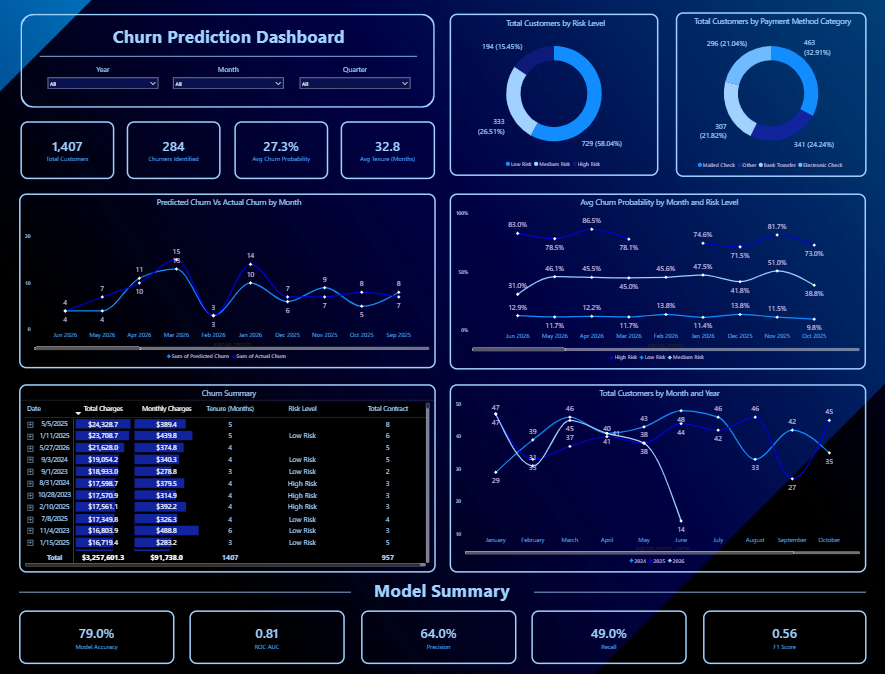

The page's visual inventory and layout, read from the dashboard file:
{"tool":"powerbi","page":{"name":"Churn Prediction","canvas":[2165,1650],"ordinal":0},"visuals":[{"type":"donutChart","title":"Total Customers by Risk Level","fields":{"Category":["churn_predictions.Risk_Level"],"Y":["Measures_.total_customers"]},"box":[1099.9,32,511.1,397.2],"z":0,"group":"g6"},{"type":"shape","box":[46.9,1428.2,812.5,37.5],"z":0,"group":"g2"},{"type":"lineChart","title":"Avg Churn Probability by Month and Risk Level","fields":{"Category":["churn_predictions.signup_month"],"Y":["Avg(churn_predictions.Churn_Probability)"],"Series":["churn_predictions.Risk_Level"]},"box":[1100.1,472.2,1019,430.6],"z":1000},{"type":"textbox","box":[875,1409.4,415.6,75],"z":1000,"group":"g2"},{"type":"lineChart","title":"Total Customers by Month and Year","fields":{"Y":["Measures_.total_customers"],"Series":["churn_predictions.signup_year"],"Category":["churn_predictions.signup_month_name"]},"box":[1099.9,938.9,1019.4,461.1],"z":2000,"group":"g7"},{"type":"shape","box":[1306.3,1428.2,812.5,37.5],"z":2000,"group":"g2"},{"type":"cardVisual","fields":{"Data":["Measures_.total_customers"]},"box":[50.4,297.1,230,141.7],"z":3000,"group":"g5"},{"type":"lineChart","title":"Predicted Churn Vs Actual Churn by Month","fields":{"Category":["churn_predictions.signup_month"],"Y":["Sum(churn_predictions.Predicted_Churn)","Sum(churn_predictions.Actual_Churn)"]},"box":[47.7,473.6,1019.4,427.8],"z":4000},{"type":"cardVisual","fields":{"Data":["Measures_.churners_identified"]},"box":[311.5,297.1,230,141.7],"z":5000,"group":"g5"},{"type":"pivotTable","title":"Churn Summary","fields":{"Rows":["churn_predictions.signup_date","churn_predictions.signup_year"],"Values":["Sum(churn_predictions.TotalCharges)","Sum(churn_predictions.MonthlyCharges)","CountNonNull(churn_predictions.tenure)","Min(churn_predictions.Risk_Level)","Sum(churn_predictions.Contract)"]},"box":[47.7,938.9,1019.4,461.1],"z":6000,"group":"g7"},{"type":"cardVisual","fields":{"Data":["Avg(churn_predictions.Churn_Probability)"]},"box":[572.5,297.1,230,141.7],"z":7000,"group":"g5"},{"type":"donutChart","title":"Total Customers by Payment Method Category","fields":{"Y":["Measures_.total_customers"],"Category":["churn_predictions.PaymentMethod_Category"]},"box":[1652.7,29.2,466.7,402.8],"z":8000,"group":"g6"},{"type":"cardVisual","fields":{"Data":["Avg(churn_predictions.tenure)"]},"box":[833.6,297,230.9,141.8],"z":9000,"group":"g5"},{"type":"shape","box":[50.5,32.6,1013.9,230.6],"z":10000,"group":"g4"},{"type":"textbox","box":[104.2,53.4,906.4,113.9],"z":11000,"group":"g3"},{"type":"shape","box":[95.5,111.7,923.8,55.6],"z":12000,"group":"g3"},{"type":"group","id":"g1","title":"Group 1","box":[104.2,156.2,906.4,86.1],"z":13000,"group":"g3"},{"type":"slicer","title":"Year","fields":{"Values":["churn_predictions.signup_date.Variation.Date Hierarchy.Year"]},"box":[104.2,156.2,290.5,86.1],"z":13000,"group":"g1"},{"type":"slicer","title":"Month","fields":{"Values":["churn_predictions.signup_date.Variation.Date Hierarchy.Month"]},"box":[412.1,156.2,290.5,86.1],"z":14000,"group":"g1"},{"type":"cardVisual","fields":{"Data":["Measures_.Model Accuracy"]},"box":[46.9,1493.8,380,131.2],"z":14000,"group":"g8"},{"type":"slicer","title":"Quarter","fields":{"Values":["churn_predictions.signup_date.Variation.Date Hierarchy.Quarter"]},"box":[720.1,156.2,290.5,86.1],"z":15000,"group":"g1"},{"type":"cardVisual","fields":{"Data":["Measures_.ROC_AUC"]},"box":[464.9,1493.8,380,131.2],"z":15000,"group":"g8"},{"type":"cardVisual","fields":{"Data":["Measures_.Precision"]},"box":[882.8,1493.8,380,131.2],"z":16000,"group":"g8"},{"type":"cardVisual","fields":{"Data":["Measures_.Recall"]},"box":[1300.8,1493.8,380,131.2],"z":17000,"group":"g8"},{"type":"cardVisual","fields":{"Data":["Measures_.F1 Score"]},"box":[1718.8,1493.8,400,131.2],"z":18000,"group":"g8"},{"type":"group","id":"g2","title":"Group 2","box":[46.9,1409.4,2071.9,75],"z":19003},{"type":"group","id":"g3","title":"Group 3","box":[95.5,53.4,923.8,188.9],"z":19004,"group":"g4"},{"type":"group","id":"g4","title":"Group 4","box":[50.5,32.6,1013.9,230.6],"z":19005},{"type":"group","id":"g5","title":"Group 5","box":[50.4,297,1014.1,141.8],"z":19006},{"type":"group","id":"g6","title":"Group 6","box":[1099.9,29.2,1019.4,402.8],"z":19007},{"type":"group","id":"g7","title":"Group 7","box":[47.7,938.9,2071.6,461.1],"z":19008},{"type":"group","id":"g8","title":"Group 8","box":[46.9,1493.8,2071.9,131.2],"z":19009}]}

Visuals, with their boxes in screenshot pixels (x1, y1, x2, y2), scaled from the page's 2165x1650 canvas onto the 885x674 screenshot:
"Total Customers by Risk Level" donutChart: [left=450, top=13, right=659, bottom=175]
shape: [left=19, top=583, right=351, bottom=599]
"Avg Churn Probability by Month and Risk Level" lineChart: [left=450, top=193, right=866, bottom=369]
textbox: [left=358, top=576, right=528, bottom=606]
"Total Customers by Month and Year" lineChart: [left=450, top=384, right=866, bottom=572]
shape: [left=534, top=583, right=866, bottom=599]
cardVisual - Measures_.total_customers: [left=21, top=121, right=115, bottom=179]
"Predicted Churn Vs Actual Churn by Month" lineChart: [left=19, top=193, right=436, bottom=368]
cardVisual - Measures_.churners_identified: [left=127, top=121, right=221, bottom=179]
"Churn Summary" pivotTable: [left=19, top=384, right=436, bottom=572]
cardVisual - Avg(churn_predictions.Churn_Probability): [left=234, top=121, right=328, bottom=179]
"Total Customers by Payment Method Category" donutChart: [left=676, top=12, right=866, bottom=176]
cardVisual - Avg(churn_predictions.tenure): [left=341, top=121, right=435, bottom=179]
shape: [left=21, top=13, right=435, bottom=108]
textbox: [left=43, top=22, right=413, bottom=68]
shape: [left=39, top=46, right=417, bottom=68]
"Group 1" group: [left=43, top=64, right=413, bottom=99]
"Year" slicer: [left=43, top=64, right=161, bottom=99]
"Month" slicer: [left=168, top=64, right=287, bottom=99]
cardVisual - Measures_.Model Accuracy: [left=19, top=610, right=175, bottom=664]
"Quarter" slicer: [left=294, top=64, right=413, bottom=99]
cardVisual - Measures_.ROC_AUC: [left=190, top=610, right=345, bottom=664]
cardVisual - Measures_.Precision: [left=361, top=610, right=516, bottom=664]
cardVisual - Measures_.Recall: [left=532, top=610, right=687, bottom=664]
cardVisual - Measures_.F1 Score: [left=703, top=610, right=866, bottom=664]
"Group 2" group: [left=19, top=576, right=866, bottom=606]
"Group 3" group: [left=39, top=22, right=417, bottom=99]
"Group 4" group: [left=21, top=13, right=435, bottom=108]
"Group 5" group: [left=21, top=121, right=435, bottom=179]
"Group 6" group: [left=450, top=12, right=866, bottom=176]
"Group 7" group: [left=19, top=384, right=866, bottom=572]
"Group 8" group: [left=19, top=610, right=866, bottom=664]
